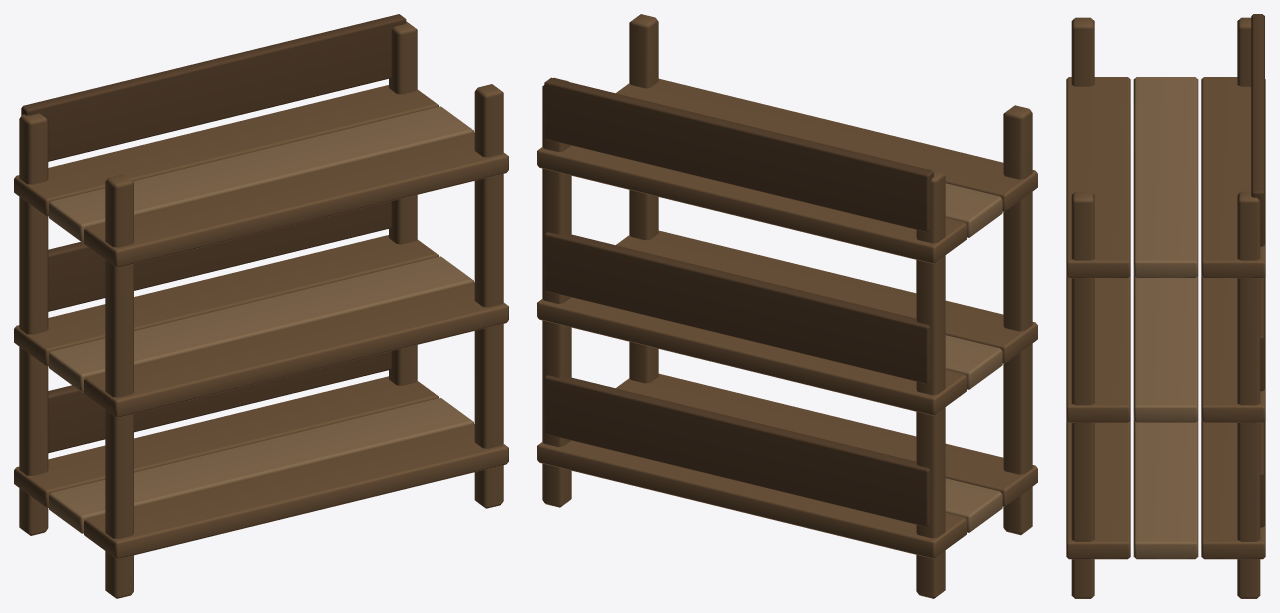
The model's file is Shelf01.fbx.
The picture shows the model from 3 angles, left to right: view 1: azimuth 30°, elevation 25°; view 2: azimuth 150°, elevation 25°; view 3: azimuth 270°, elevation 25°; orthographic projection. The views are drawn at different scales.
Parts seen in each view (by area): view 1: Shelf01.001; view 2: Shelf01.001; view 3: Shelf01.001.
Part boxes in pixels (x1=…): Shelf01.001: x1=14, y1=14, x2=508, y2=598; Shelf01.001: x1=537, y1=14, x2=1037, y2=598; Shelf01.001: x1=1066, y1=14, x2=1265, y2=598.
Bounding box in the file's own units: 143 × 146 × 65.
